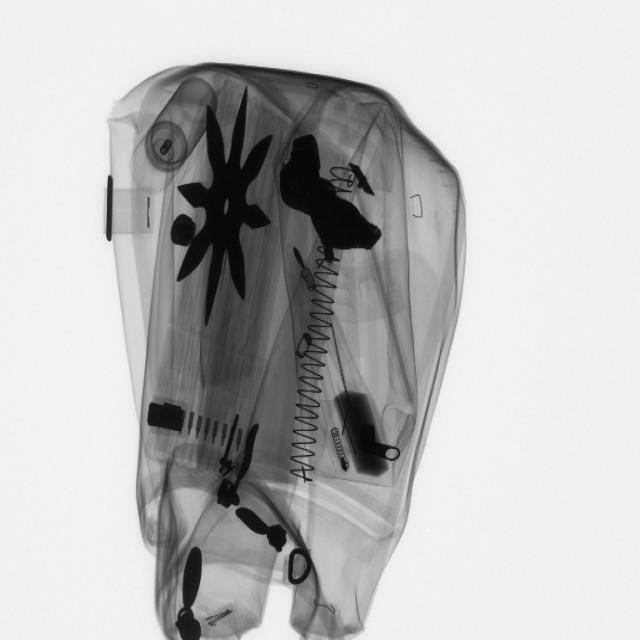SHURIKEN: (176, 88, 280, 326)
